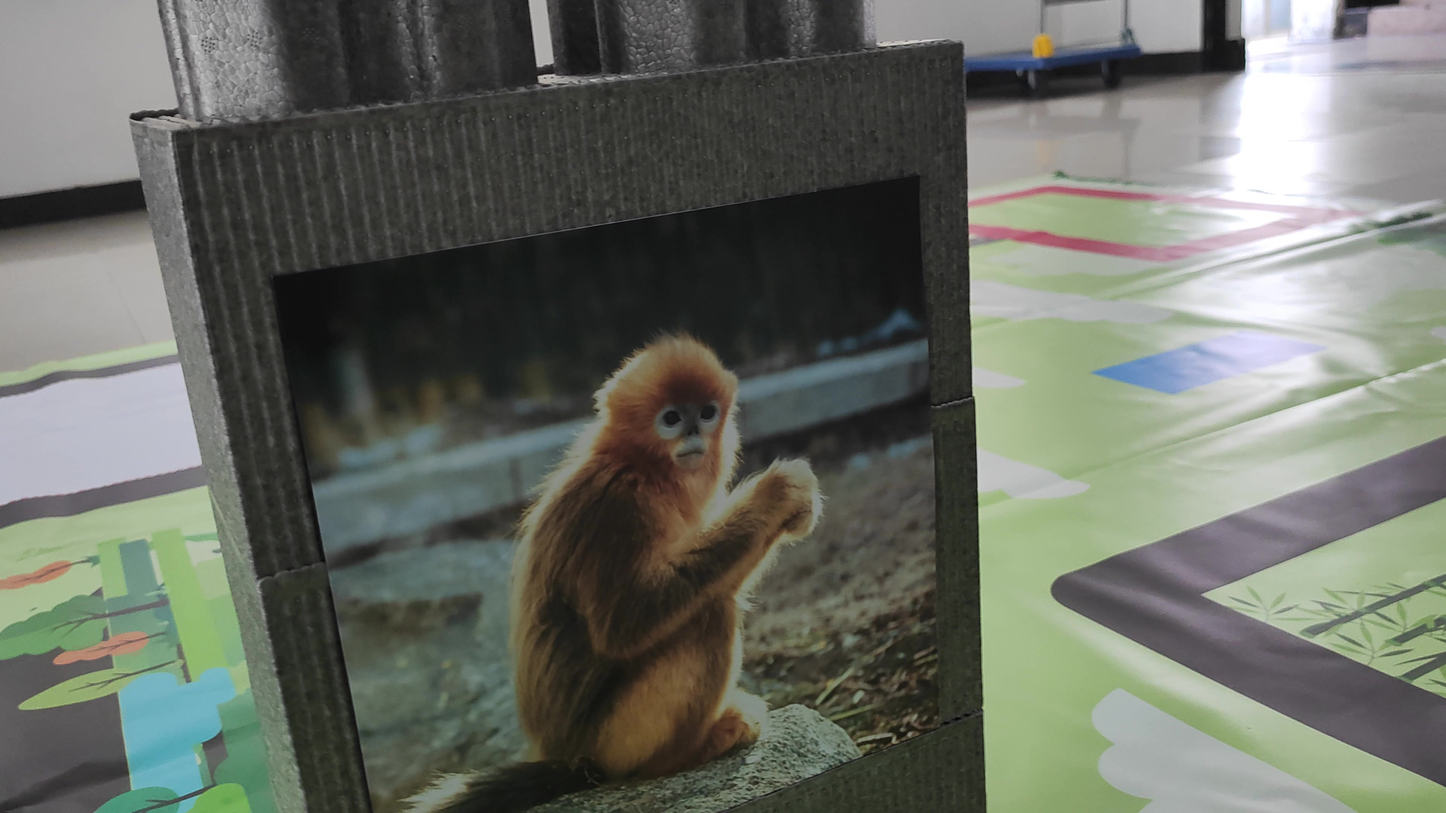monkey: (415, 310, 840, 808)
